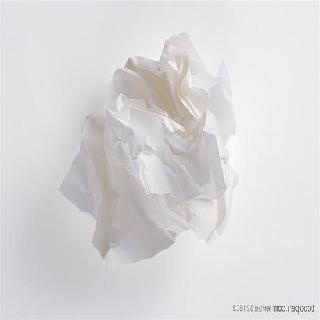8/可回收垃圾/纸: (55, 33, 238, 266)
